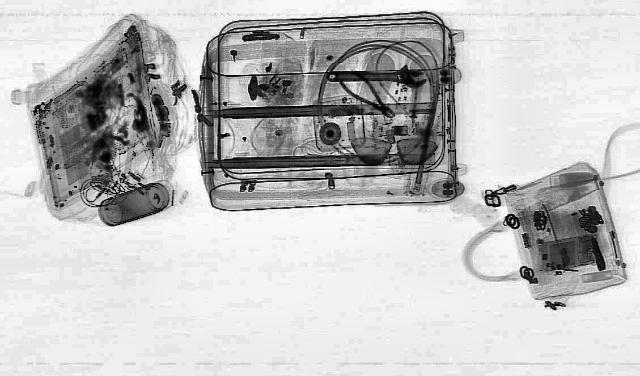Pliers: (330, 69, 408, 121)
Wrench: (323, 67, 427, 87)
